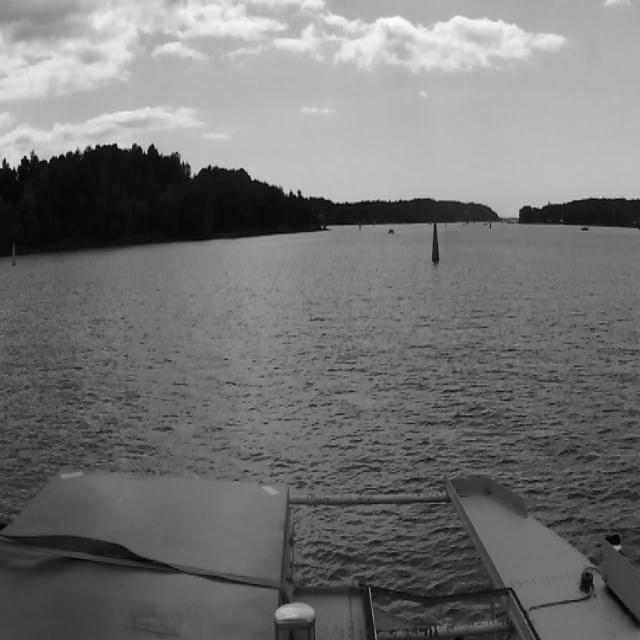buoy: (432, 212, 440, 264), (12, 244, 16, 268), (357, 219, 361, 230), (371, 218, 375, 228), (489, 222, 491, 230)
ship: (578, 223, 592, 230), (386, 228, 394, 236), (388, 228, 394, 234)
